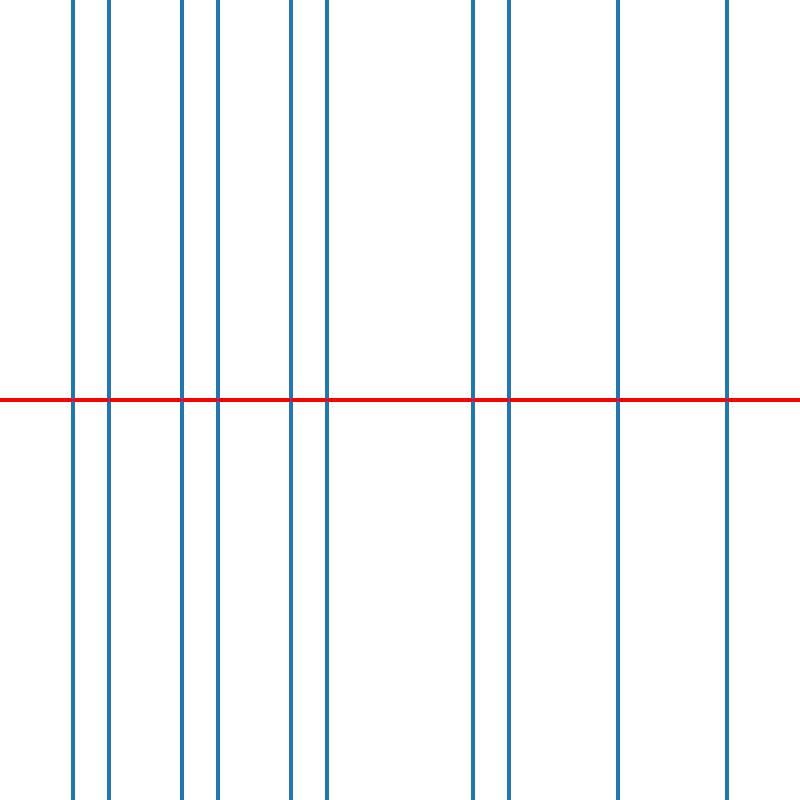root: (323, 396, 330, 404), (614, 396, 621, 404), (214, 396, 221, 404), (178, 396, 185, 404), (287, 396, 294, 404), (505, 396, 512, 404), (69, 396, 76, 404), (723, 396, 730, 404), (105, 396, 112, 404), (469, 396, 476, 404)
